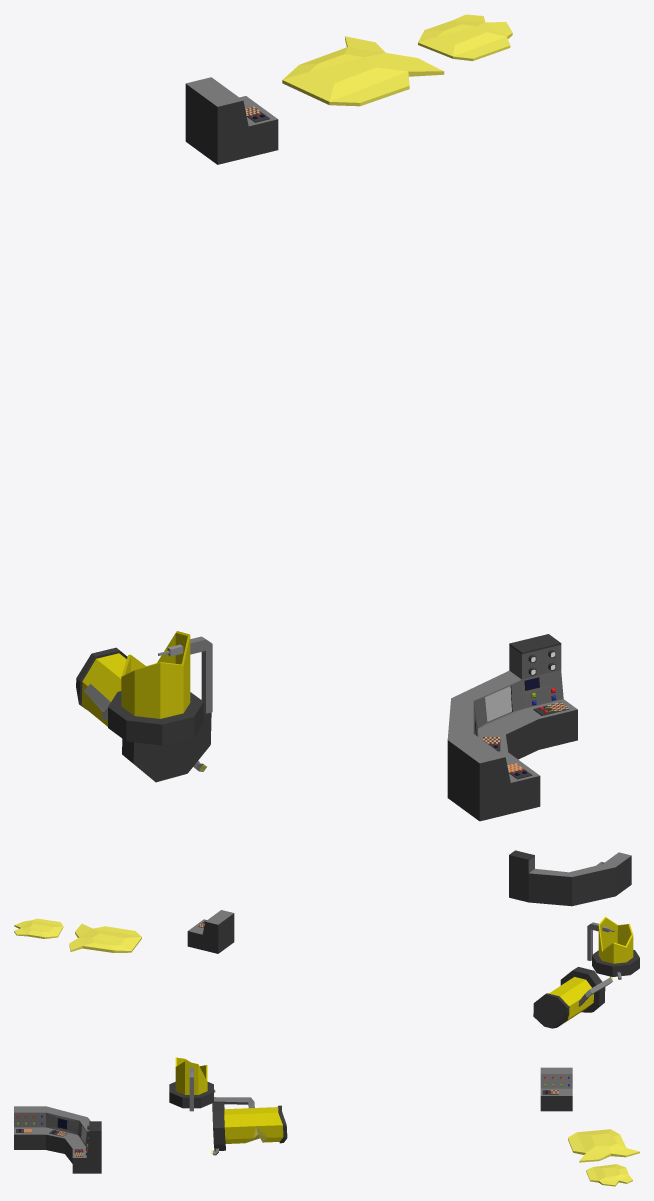
Rendered from LabObjects.fbx.
3 views of the same model, one above another, from view 1: azimuth 30°, elevation 25°; view 2: azimuth 150°, elevation 25°; view 3: azimuth 270°, elevation 25° (orthographic). The views are drawn at different scales.
Parts seen in each view (by area): view 1: Something.002, Clone.002, Puddle, Something, Clone.003, Puddle2; view 2: Something.002, Clone.003, Clone.002, Puddle, Something, Puddle2; view 3: Something.002, Clone.003, Clone.002, Puddle, Something, Puddle2.
Boxes of the visible parts, x1,y1,x2,y2 form: Something.002: [447, 634, 577, 821]; Clone.002: [101, 631, 212, 745]; Puddle: [282, 36, 444, 106]; Something: [185, 77, 278, 164]; Clone.003: [76, 647, 211, 782]; Puddle2: [418, 14, 512, 60]; Something.002: [509, 850, 631, 906]; Clone.003: [533, 967, 612, 1028]; Clone.002: [587, 916, 639, 979]; Puddle: [69, 923, 141, 952]; Something: [187, 910, 234, 953]; Puddle2: [14, 918, 63, 938]; Something.002: [14, 1106, 101, 1173]; Clone.003: [210, 1097, 287, 1155]; Clone.002: [169, 1057, 215, 1111]; Puddle: [568, 1129, 639, 1162]; Something: [540, 1067, 572, 1111]; Puddle2: [586, 1164, 632, 1186].
Size of the model in its own units: 1566 by 632 by 2089.
